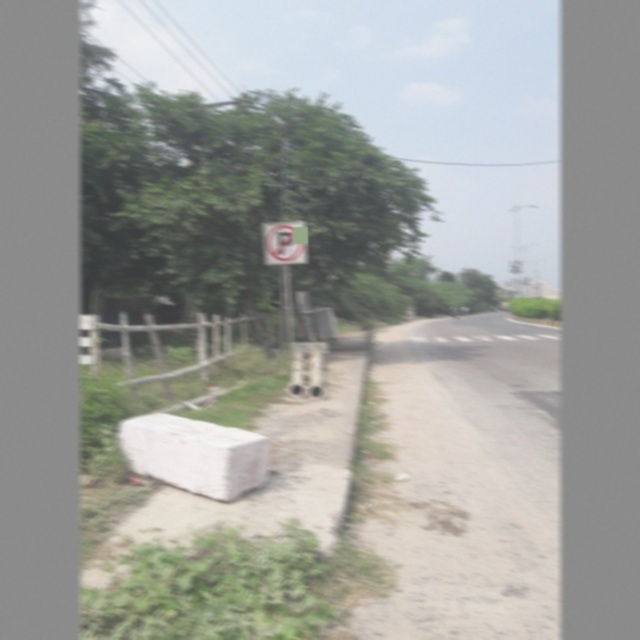No_Parking: (262, 220, 308, 268)
